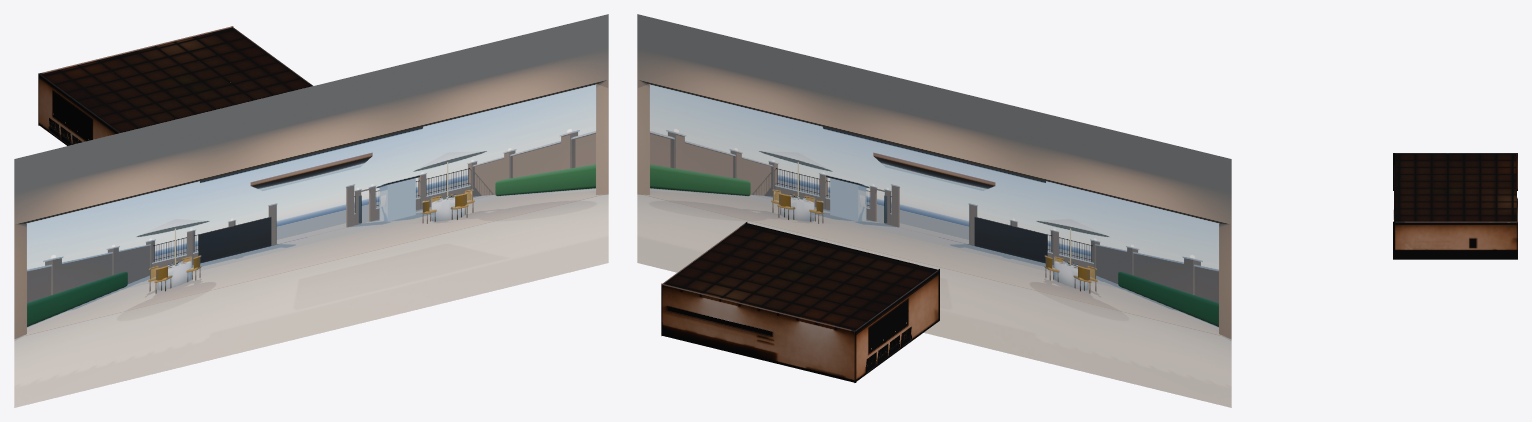
The model's file is int_iroko_room.glb.
3 views of the same model, side by side, from view 1: azimuth 30°, elevation 25°; view 2: azimuth 150°, elevation 25°; view 3: azimuth 270°, elevation 25° (orthographic). The views are drawn at different scales.
Visible parts, largest first — view 1: VIEW_front, ROOM; view 2: VIEW_front, ROOM; view 3: ROOM.
Part boxes in pixels (box(x1,y1,x2,y2)): VIEW_front: box(14, 14, 608, 407); ROOM: box(38, 26, 312, 145); VIEW_front: box(637, 14, 1231, 407); ROOM: box(661, 222, 939, 382); ROOM: box(1393, 153, 1517, 259).
Bounding box in the file's own units: 61.71 × 24.68 × 31.72.
Materials: 3 (2 with a texture image).
